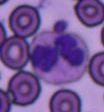N: (33, 32, 89, 85)
